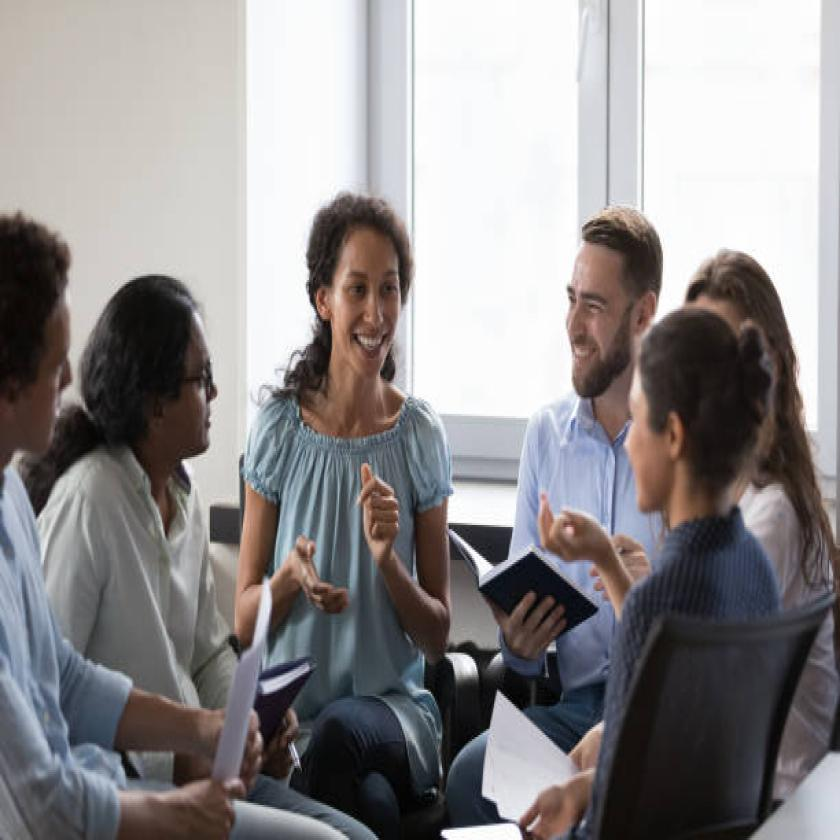Sin_casco: (85, 255, 223, 520), (548, 176, 661, 420), (0, 181, 80, 494), (303, 174, 411, 397)
